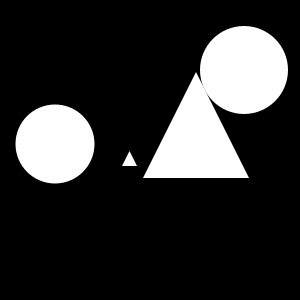rectangle: (200, 26, 288, 114), (16, 104, 94, 183)
triangle: (143, 72, 249, 178), (122, 151, 137, 166)
